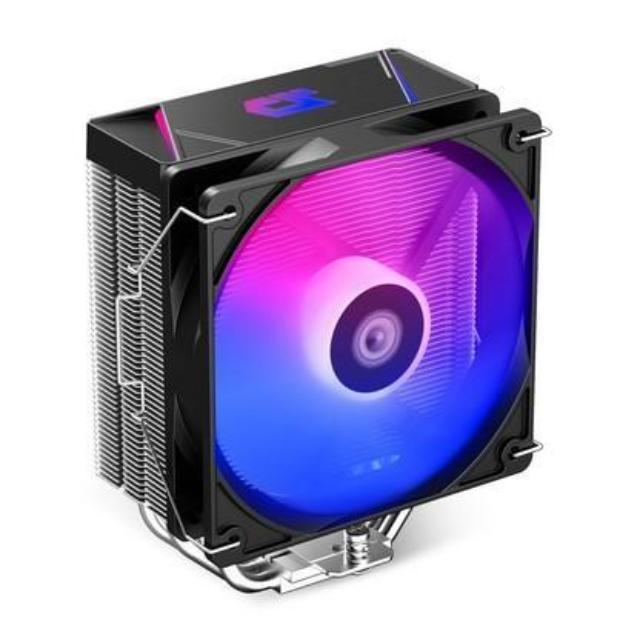CPU_Fan: (87, 46, 538, 594)
